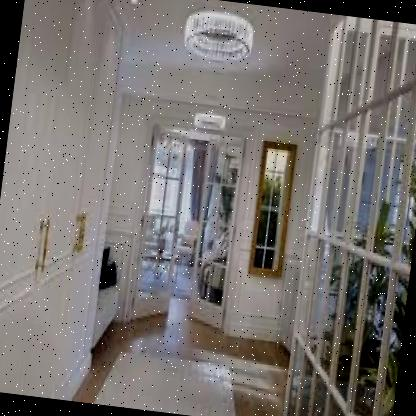door: (116, 114, 256, 344)
